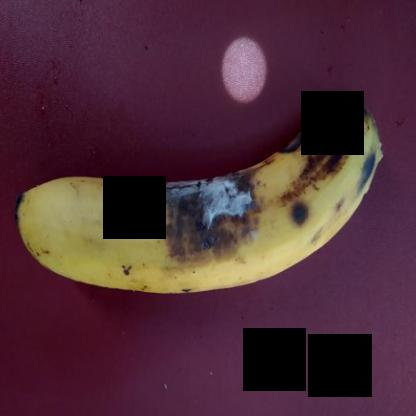overripe: (8, 89, 370, 348)
